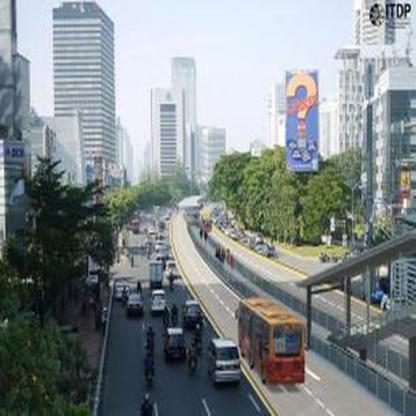bus: (235, 299, 310, 389)
car: (205, 335, 243, 388), (162, 327, 190, 364), (183, 298, 203, 332), (148, 288, 166, 318), (126, 291, 144, 318)
